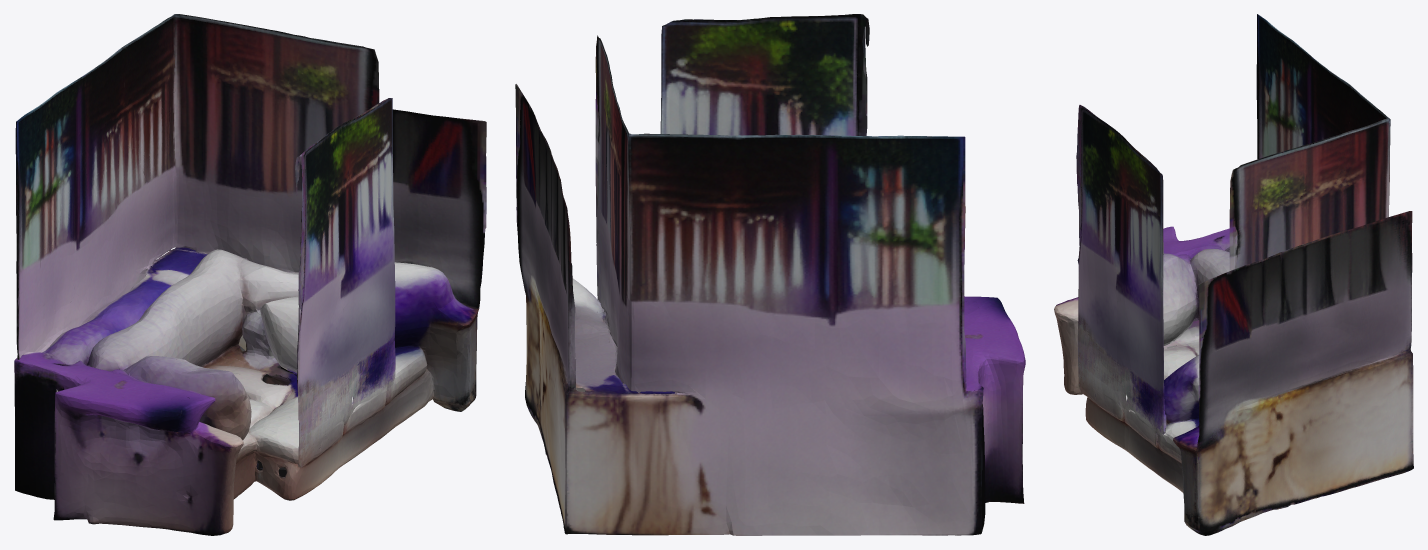
File: trellis_result.glb
The picture shows the model from 3 angles, left to right: view 1: azimuth 30°, elevation 25°; view 2: azimuth 150°, elevation 25°; view 3: azimuth 270°, elevation 25°; orthographic projection. The views are drawn at different scales.
Parts seen in each view (by area): view 1: world; view 2: world; view 3: world.
Part boxes in pixels (x1,y1,x2,y2): world: (14,14,486,535); world: (515,14,1025,535); world: (1054,14,1413,535).
Size of the model in its own units: 0.9761 by 0.7674 by 0.7443.
1 material, 1 textured.
